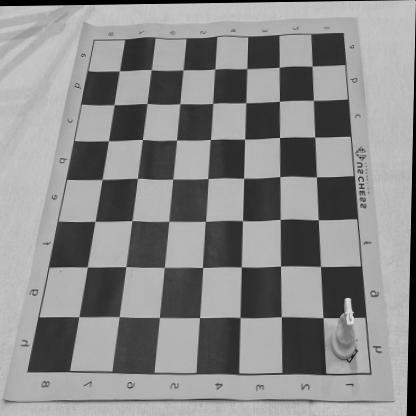white-knight: (331, 298, 359, 362)
